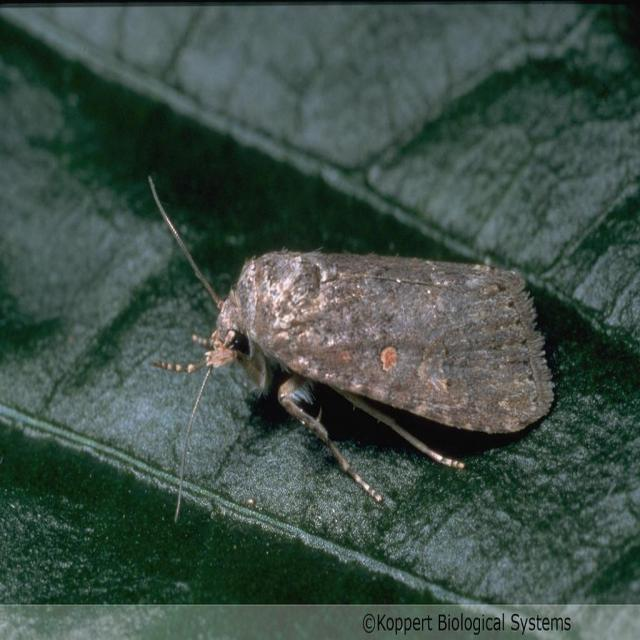BeetArmyWorm-Adult-: (147, 164, 556, 514)
